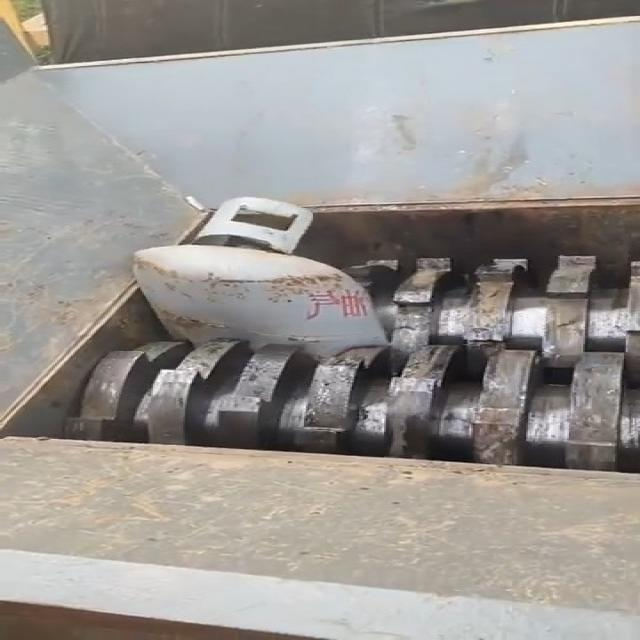Broyeur: (0, 184, 640, 481)
